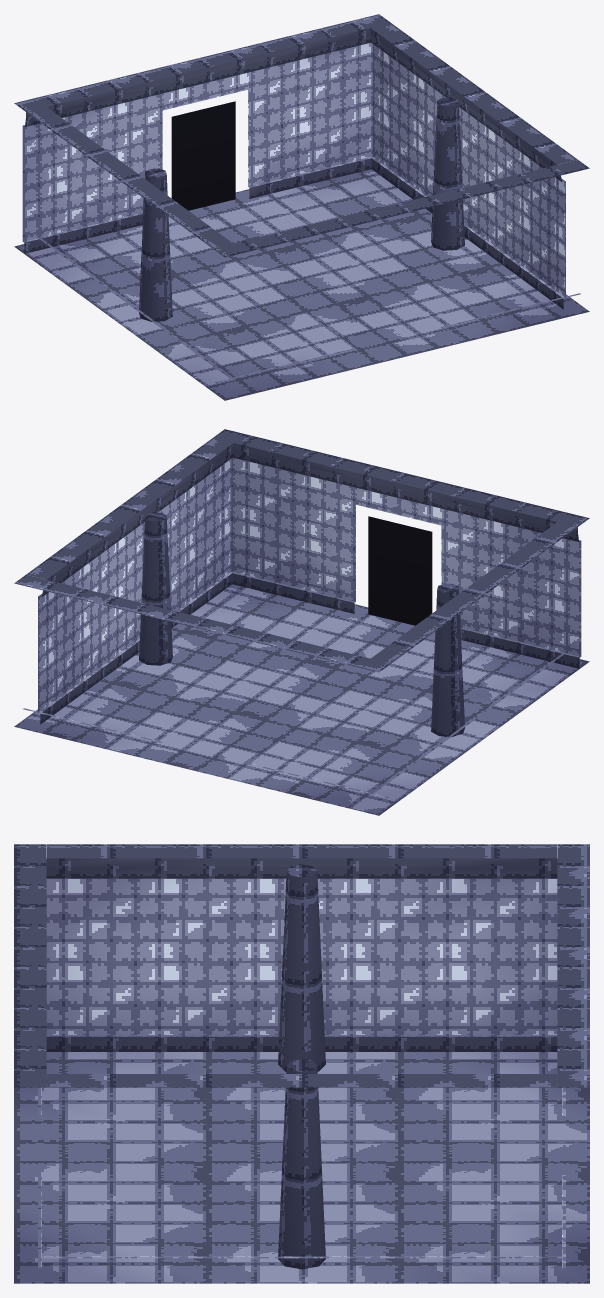
The model's file is cyroom.lobby.glb.
3 views of the same model, one above another, from view 1: azimuth 30°, elevation 25°; view 2: azimuth 150°, elevation 25°; view 3: azimuth 270°, elevation 25° (orthographic). The views are drawn at different scales.
Parts seen in each view (by area): view 1: kit_shell_walls, kit_shell_floor, kit_trim, kit_card_lights; view 2: kit_shell_walls, kit_shell_floor, kit_trim, kit_card_lights; view 3: kit_shell_walls, kit_shell_floor, kit_trim.
Boxes of the visible parts, x1=… form: kit_shell_walls: x1=14, y1=14, x2=589, y2=383; kit_shell_floor: x1=14, y1=169, x2=589, y2=400; kit_trim: x1=139, y1=97, x2=464, y2=321; kit_card_lights: x1=171, y1=101, x2=235, y2=210; kit_shell_walls: x1=14, y1=429, x2=589, y2=798; kit_shell_floor: x1=14, y1=584, x2=589, y2=815; kit_trim: x1=139, y1=512, x2=464, y2=736; kit_card_lights: x1=368, y1=516, x2=432, y2=625; kit_shell_walls: x1=14, y1=844, x2=589, y2=1268; kit_shell_floor: x1=14, y1=1052, x2=589, y2=1283; kit_trim: x1=278, y1=864, x2=325, y2=1269.
Bounding box in the file's own units: 12 × 4.5 × 12.
Materials: 6 (6 with a texture image).
